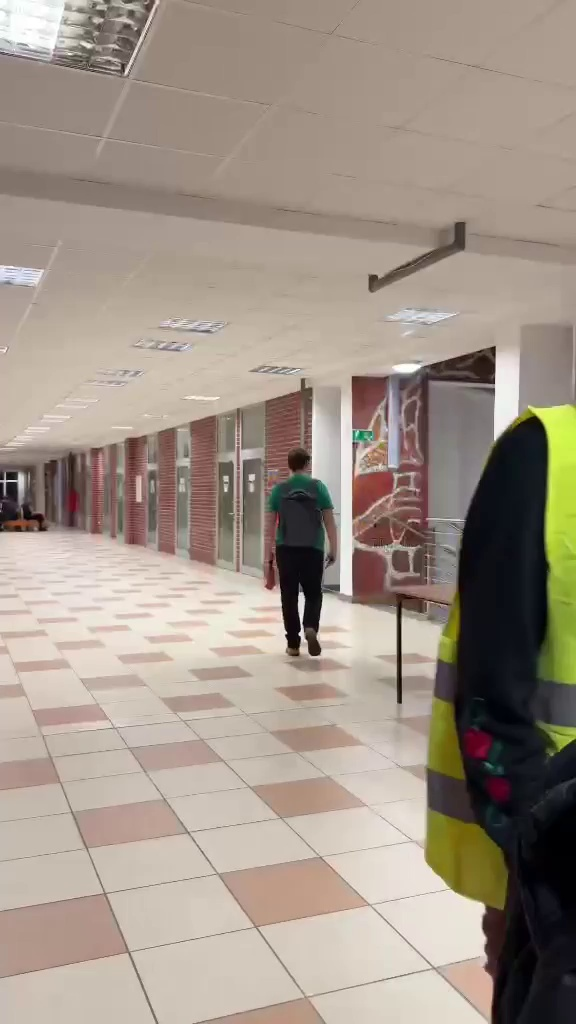no vest: (258, 446, 344, 657)
vest: (438, 379, 576, 980)
